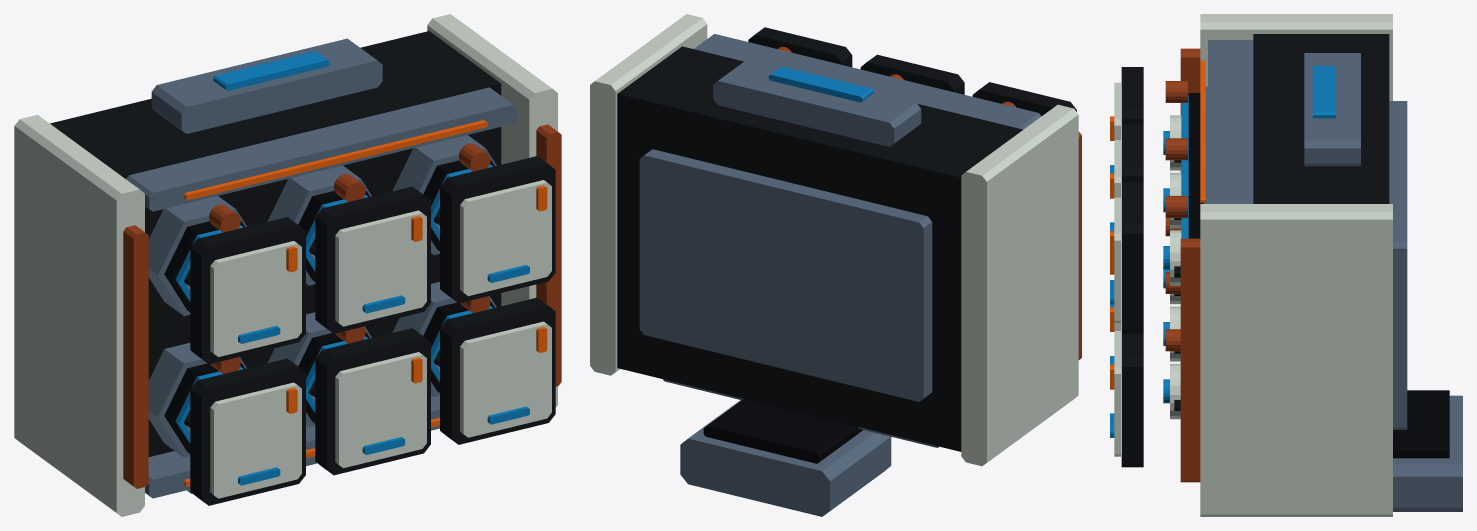
File: M01-022_homing_drone_pod.obj
3 renders of one model, left to right at view 1: azimuth 30°, elevation 25°; view 2: azimuth 150°, elevation 25°; view 3: azimuth 270°, elevation 25°, orthographic. The views are drawn at different scales.
Visible parts, largest first — view 1: Side_Armor_L, Rear_Backbone, Cross_Rail_Upper, Telemetry_Ridge, Door_Ceramic_Face_02, Door_Ceramic_Face_05, Door_Ceramic_Face_01, Door_Ceramic_Face_03, Door_Ceramic_Face_04, Door_Ceramic_Face_06, Side_Armor_R, Side_Conduit_L (+25 smaller); view 2: Rear_Heat_Sink, Rear_Backbone, Side_Armor_L, Mount_Top_Key, Side_Armor_R, Telemetry_Ridge, Cross_Rail_Upper, Mount_Rubber_Gasket, Armored_Door_06, Armored_Door_05, Telemetry_Cyan, Armored_Door_04 (+1 smaller); view 3: Side_Armor_R, Rear_Backbone, Cross_Rail_Upper, Rear_Heat_Sink, Telemetry_Ridge, Side_Conduit_R, Side_Armor_L, Mount_Top_Key, Armored_Door_06, Mount_Rubber_Gasket, Armored_Door_03, Armored_Door_04 (+15 smaller).
Boxes of the visible parts, left/top/right/bottom form: Side_Armor_L: left=14, top=114, right=144, bottom=516; Rear_Backbone: left=50, top=31, right=501, bottom=456; Cross_Rail_Upper: left=126, top=87, right=516, bottom=211; Telemetry_Ridge: left=151, top=38, right=382, bottom=133; Door_Ceramic_Face_02: left=335, top=352, right=426, bottom=468; Door_Ceramic_Face_05: left=335, top=210, right=426, bottom=326; Door_Ceramic_Face_01: left=210, top=382, right=301, bottom=498; Door_Ceramic_Face_03: left=460, top=321, right=551, bottom=437; Door_Ceramic_Face_04: left=210, top=241, right=301, bottom=356; Door_Ceramic_Face_06: left=460, top=180, right=551, bottom=296; Side_Armor_R: left=427, top=14, right=557, bottom=407; Side_Conduit_L: left=123, top=225, right=148, bottom=488; Rear_Heat_Sink: left=639, top=149, right=932, bottom=401; Rear_Backbone: left=617, top=46, right=1022, bottom=451; Side_Armor_L: left=961, top=104, right=1078, bottom=466; Mount_Top_Key: left=680, top=400, right=891, bottom=516; Side_Armor_R: left=590, top=14, right=707, bottom=375; Telemetry_Ridge: left=713, top=61, right=921, bottom=146; Cross_Rail_Upper: left=694, top=34, right=1041, bottom=129; Mount_Rubber_Gasket: left=703, top=399, right=862, bottom=463; Armored_Door_06: left=748, top=27, right=852, bottom=67; Armored_Door_05: left=860, top=54, right=964, bottom=94; Telemetry_Cyan: left=768, top=66, right=873, bottom=102; Armored_Door_04: left=972, top=82, right=1076, bottom=116; Side_Armor_R: left=1200, top=204, right=1392, bottom=516; Rear_Backbone: left=1253, top=34, right=1389, bottom=203; Cross_Rail_Upper: left=1208, top=40, right=1253, bottom=203; Rear_Heat_Sink: left=1389, top=101, right=1407, bottom=429; Telemetry_Ridge: left=1304, top=53, right=1360, bottom=166; Side_Conduit_R: left=1180, top=238, right=1200, bottom=482; Side_Armor_L: left=1200, top=14, right=1392, bottom=203; Mount_Top_Key: left=1393, top=395, right=1462, bottom=511; Armored_Door_06: left=1121, top=182, right=1143, bottom=333; Mount_Rubber_Gasket: left=1393, top=390, right=1449, bottom=458; Armored_Door_03: left=1121, top=333, right=1143, bottom=467; Armored_Door_04: left=1121, top=67, right=1143, bottom=124.
Size of the model in its own units: 1.27 by 1.13 by 0.934.
